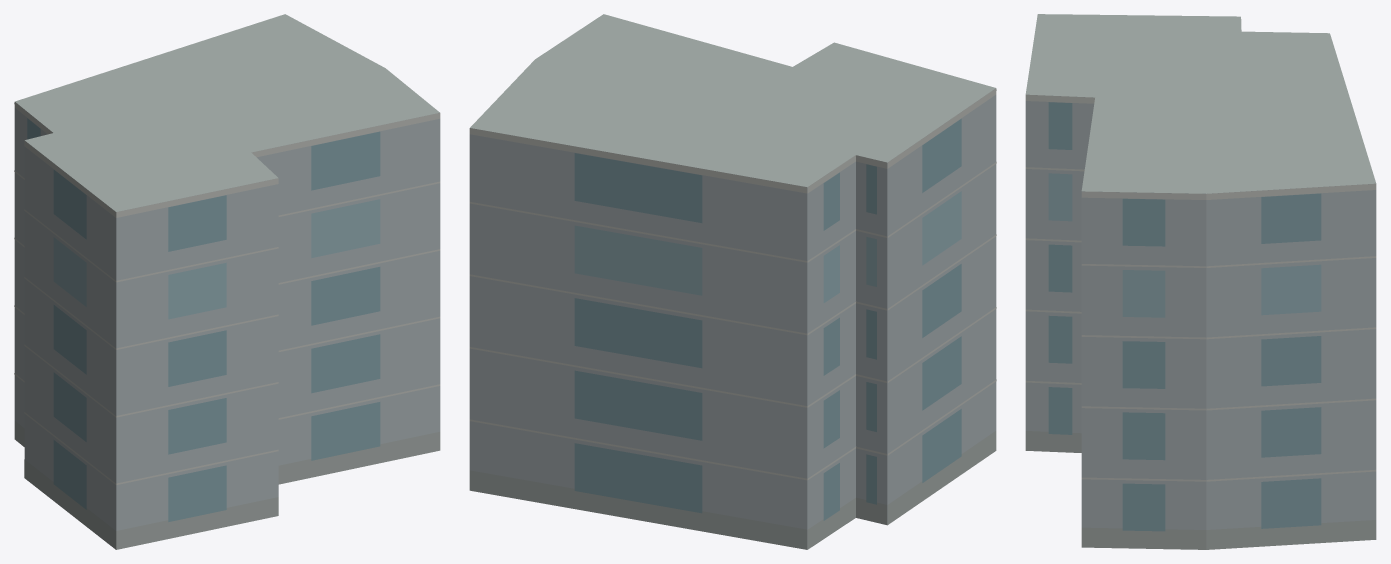
File: survey-upis-32654782.glb
3 views of the same model, side by side, from view 1: azimuth 30°, elevation 25°; view 2: azimuth 150°, elevation 25°; view 3: azimuth 270°, elevation 25° (orthographic). The views are drawn at different scales.
Parts seen in each view (by area): view 1: survey-upis-32654782.tmp; view 2: survey-upis-32654782.tmp; view 3: survey-upis-32654782.tmp.
Boxes of the visible parts, x1,y1,x2,y2 form: survey-upis-32654782.tmp: (14,14,440,549); survey-upis-32654782.tmp: (469,14,996,549); survey-upis-32654782.tmp: (1025,14,1376,549).
Bounding box in the file's own units: 14.93 × 13.76 × 12.31.
